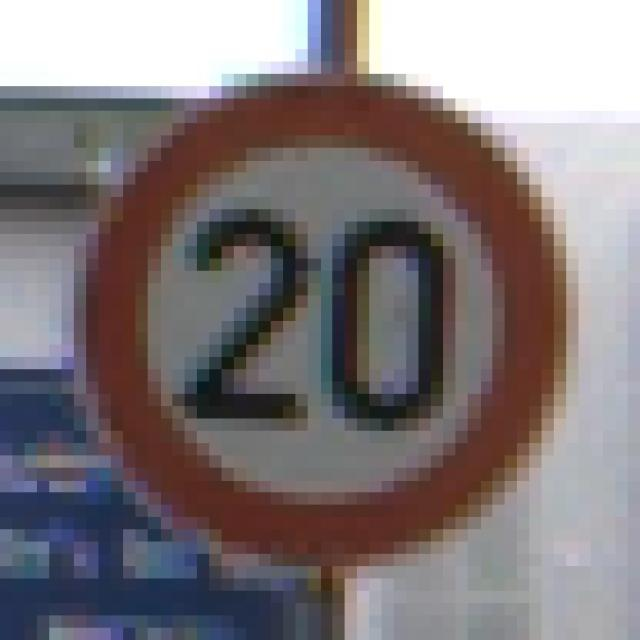Speed Limit 20 KMPh: (37, 62, 615, 603)
